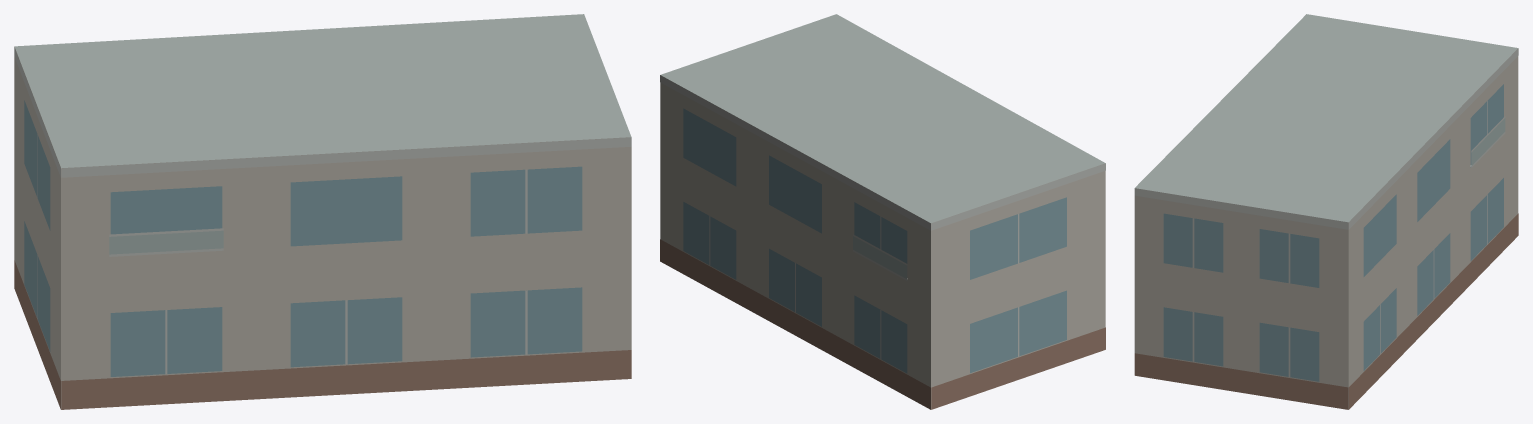
Rendered from survey-upis-32714703.glb.
3 views of the same model, side by side, from view 1: azimuth 30°, elevation 25°; view 2: azimuth 150°, elevation 25°; view 3: azimuth 270°, elevation 25° (orthographic). The views are drawn at different scales.
Visible parts, largest first — view 1: survey-upis-32714703.tmp; view 2: survey-upis-32714703.tmp; view 3: survey-upis-32714703.tmp.
Part boxes in pixels (x1,y1,x2,y2): survey-upis-32714703.tmp: [14, 14, 631, 409]; survey-upis-32714703.tmp: [660, 14, 1105, 409]; survey-upis-32714703.tmp: [1134, 14, 1518, 409].
Bounding box in the file's own units: 14.54 × 6.1 × 11.33.
